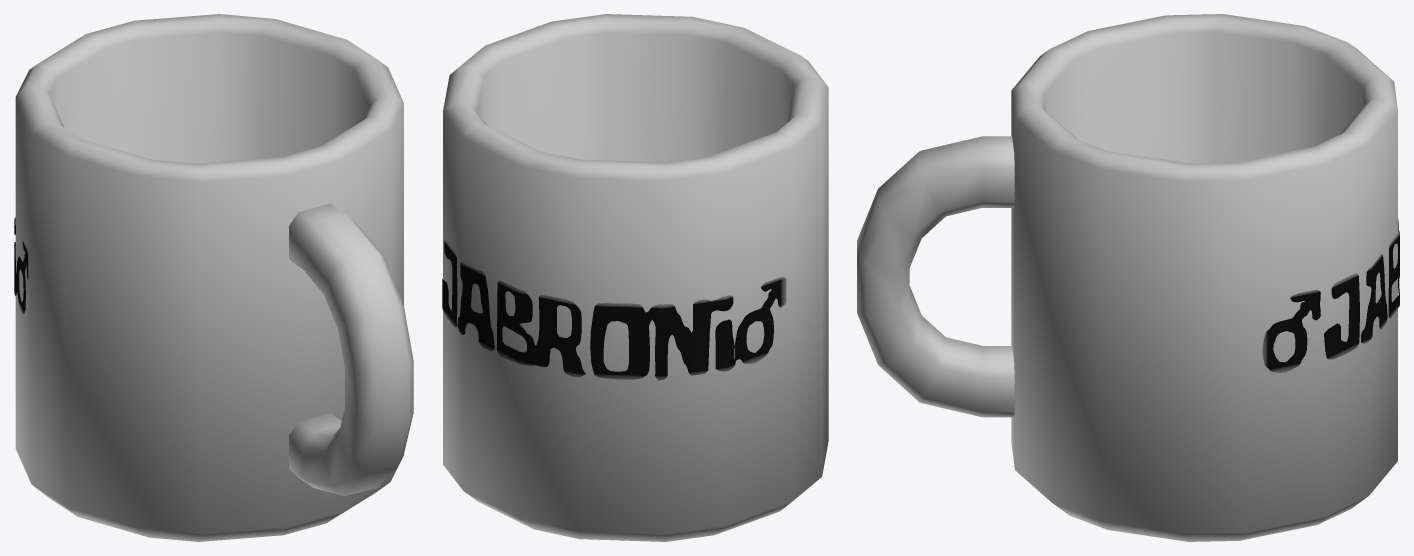
The model's file is Mug_Jabroni.fbx.
3 renders of one model, left to right at view 1: azimuth 30°, elevation 25°; view 2: azimuth 150°, elevation 25°; view 3: azimuth 270°, elevation 25°, orthographic.
Visible parts, largest first — view 1: Mug_Jabroni; view 2: Mug_Jabroni; view 3: Mug_Jabroni.
Boxes of the visible parts, box(x1,y1,x2,y2) form: Mug_Jabroni: box(14, 14, 413, 541); Mug_Jabroni: box(442, 14, 828, 541); Mug_Jabroni: box(857, 14, 1399, 541).
Bounding box in the file's own units: 22.54 × 24.19 × 31.63.
